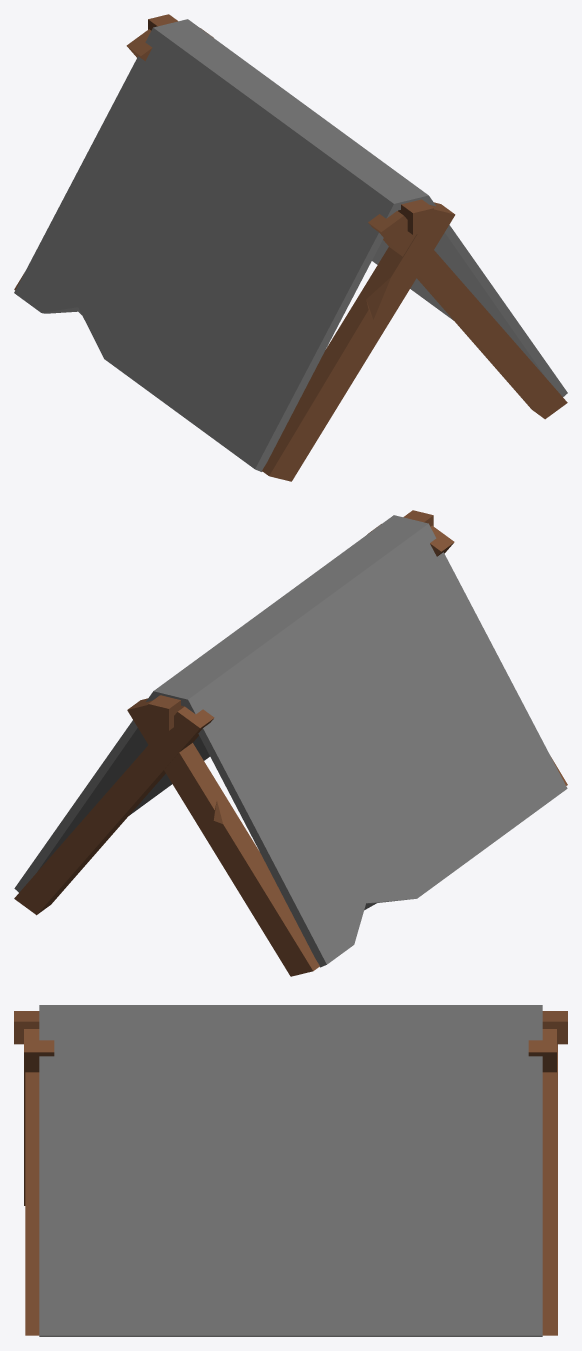
File: Tent02.fbx
3 renders of one model, top to bottom at view 1: azimuth 30°, elevation 25°; view 2: azimuth 150°, elevation 25°; view 3: azimuth 270°, elevation 25°, orthographic. The views are drawn at different scales.
Parts seen in each view (by area): view 1: Cube.002; view 2: Cube.002; view 3: Cube.002.
Part boxes in pixels (<box>): Cube.002: <box>14,14,567,481</box>; Cube.002: <box>14,510,567,976</box>; Cube.002: <box>14,1005,567,1336</box>.
Bounding box in the file's own units: 300 × 225 × 440.
